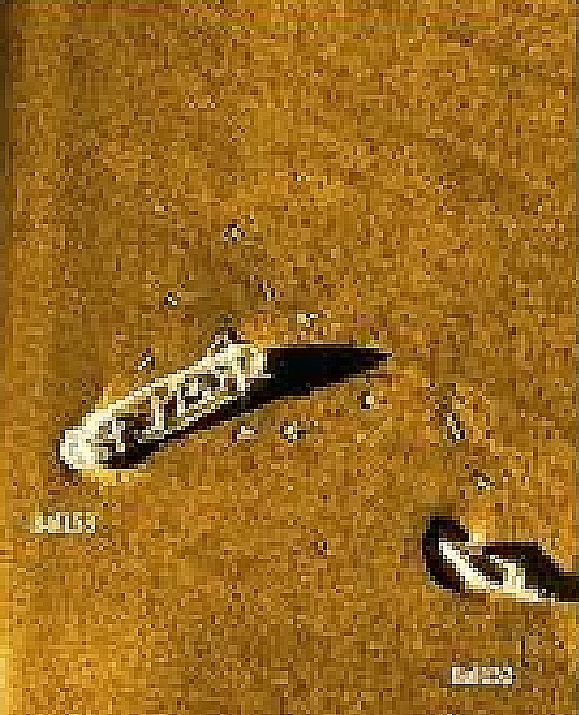ship: (57, 328, 273, 473)
